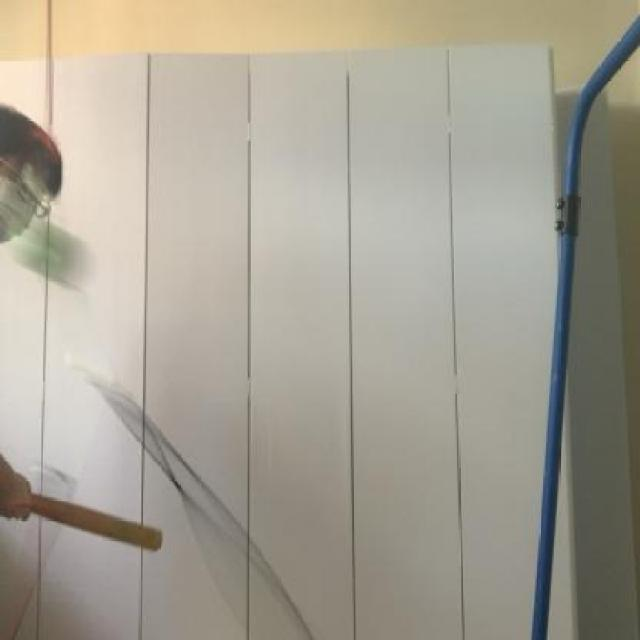baseball: (9, 203, 106, 292)
